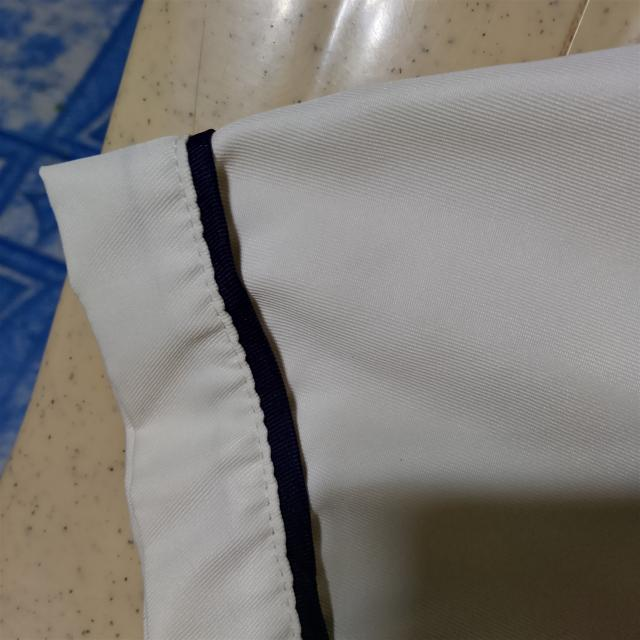education_male_uniform: (4, 66, 640, 640)
